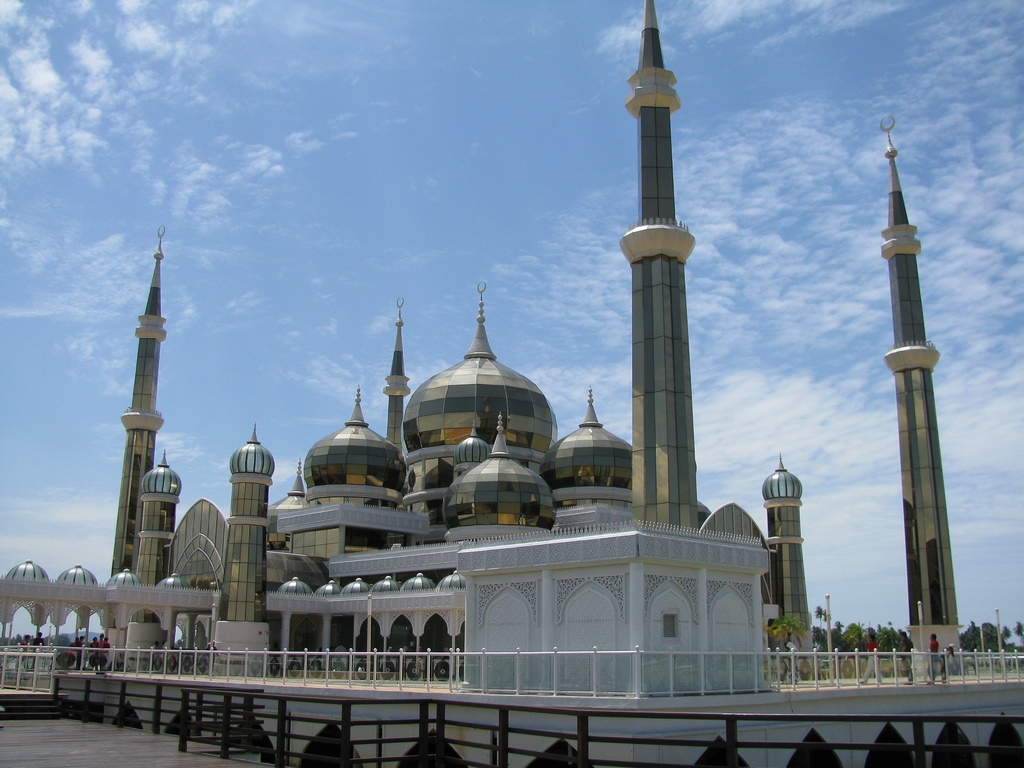Mosque: (74, 6, 966, 688)
